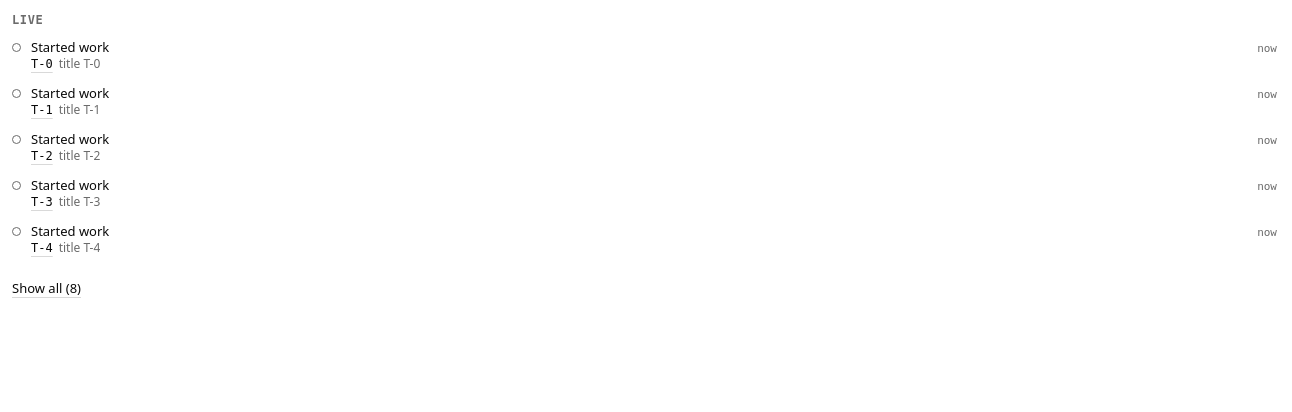
Test: the page form shows the latest 5, then all
Step 1. Click the button "Show all (8)" → (46, 288), box [12,266,81,310]
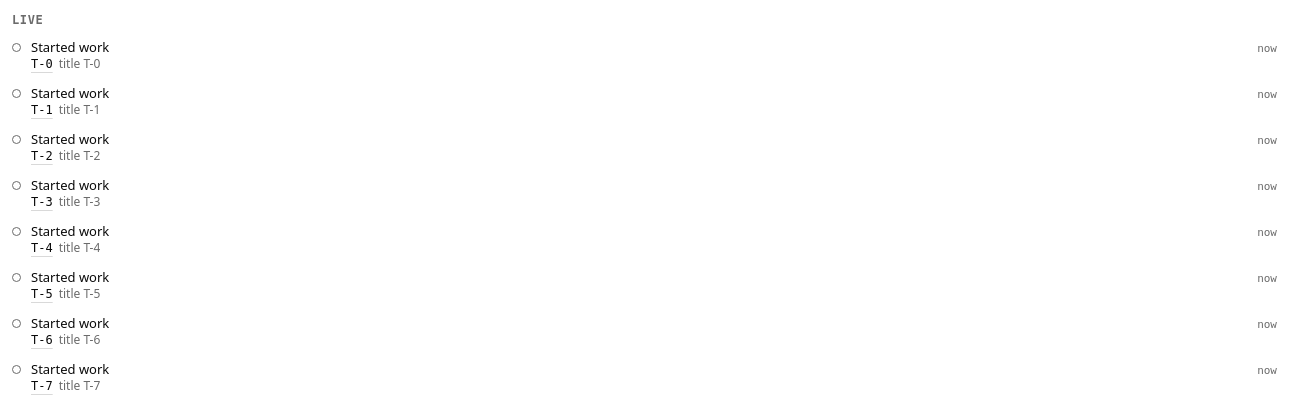
Now the number of list items is 8
